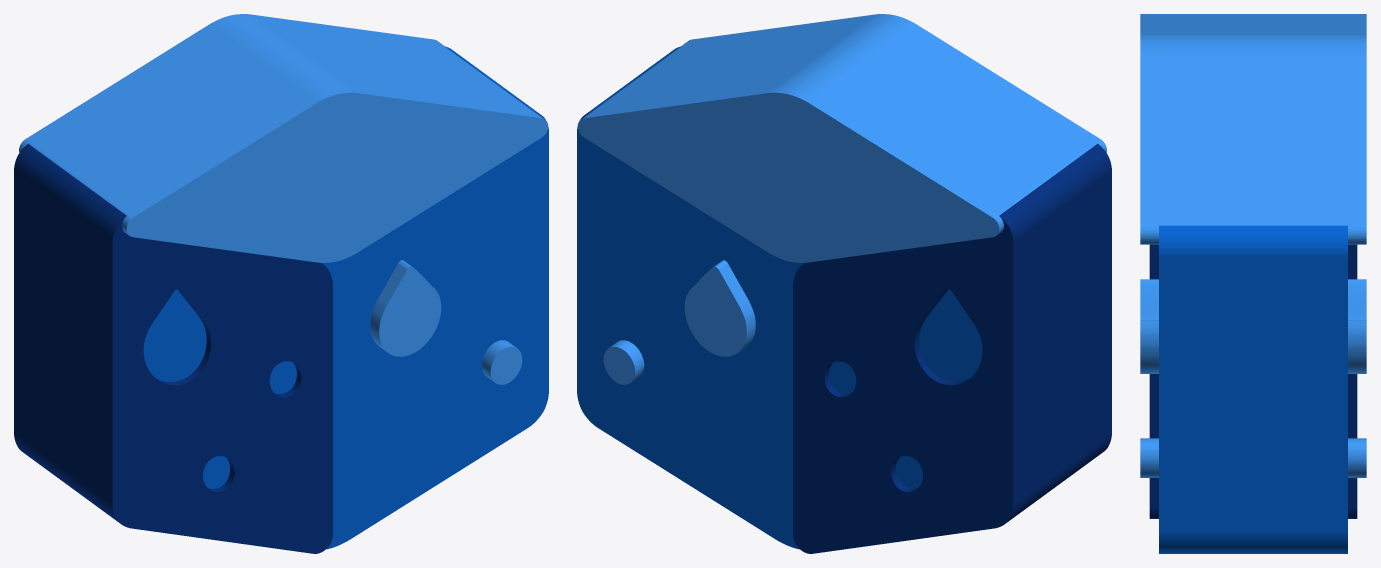
3 renders of one model, left to right at view 1: azimuth 30°, elevation 25°; view 2: azimuth 150°, elevation 25°; view 3: azimuth 270°, elevation 25°, orthographic. The views are drawn at different scales.
Parts seen in each view (by area): view 1: U+1F9CA_layer01_obj00, U+1F9CA_layer02_obj00, U+1F9CA_layer00_obj00; view 2: U+1F9CA_layer01_obj00, U+1F9CA_layer02_obj00, U+1F9CA_layer00_obj00; view 3: U+1F9CA_layer00_obj00, U+1F9CA_layer02_obj00, U+1F9CA_layer01_obj00.
Part boxes in pixels (<box>): U+1F9CA_layer01_obj00: <box>14,143,332,553</box>; U+1F9CA_layer02_obj00: <box>19,14,548,384</box>; U+1F9CA_layer00_obj00: <box>143,46,548,549</box>; U+1F9CA_layer01_obj00: <box>793,143,1111,553</box>; U+1F9CA_layer02_obj00: <box>577,14,1106,384</box>; U+1F9CA_layer00_obj00: <box>577,46,982,549</box>; U+1F9CA_layer00_obj00: <box>1159,225,1347,553</box>; U+1F9CA_layer02_obj00: <box>1140,14,1366,477</box>; U+1F9CA_layer01_obj00: <box>1149,244,1357,518</box>.
Bounding box in the file's own units: 0.5678 × 0.5677 × 0.24.
